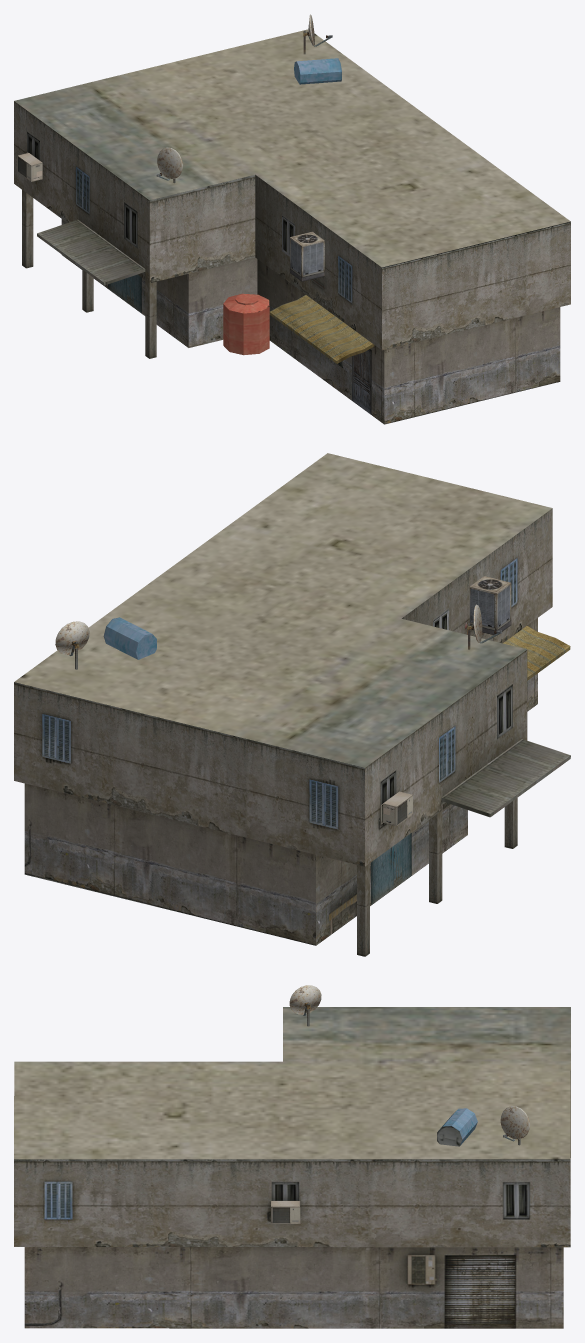
The model's file is building02.fbx.
The picture shows the model from 3 angles, top to bottom: view 1: azimuth 30°, elevation 25°; view 2: azimuth 150°, elevation 25°; view 3: azimuth 270°, elevation 25°; orthographic projection. The views are drawn at different scales.
Visible parts, largest first — view 1: polySurface4; view 2: polySurface4; view 3: polySurface4.
Part boxes in pixels (x1,y1,x2,y2): polySurface4: [14, 14, 570, 424]; polySurface4: [14, 453, 570, 956]; polySurface4: [14, 985, 570, 1328].
Size of the model in its own units: 1303 by 721 by 1712.
